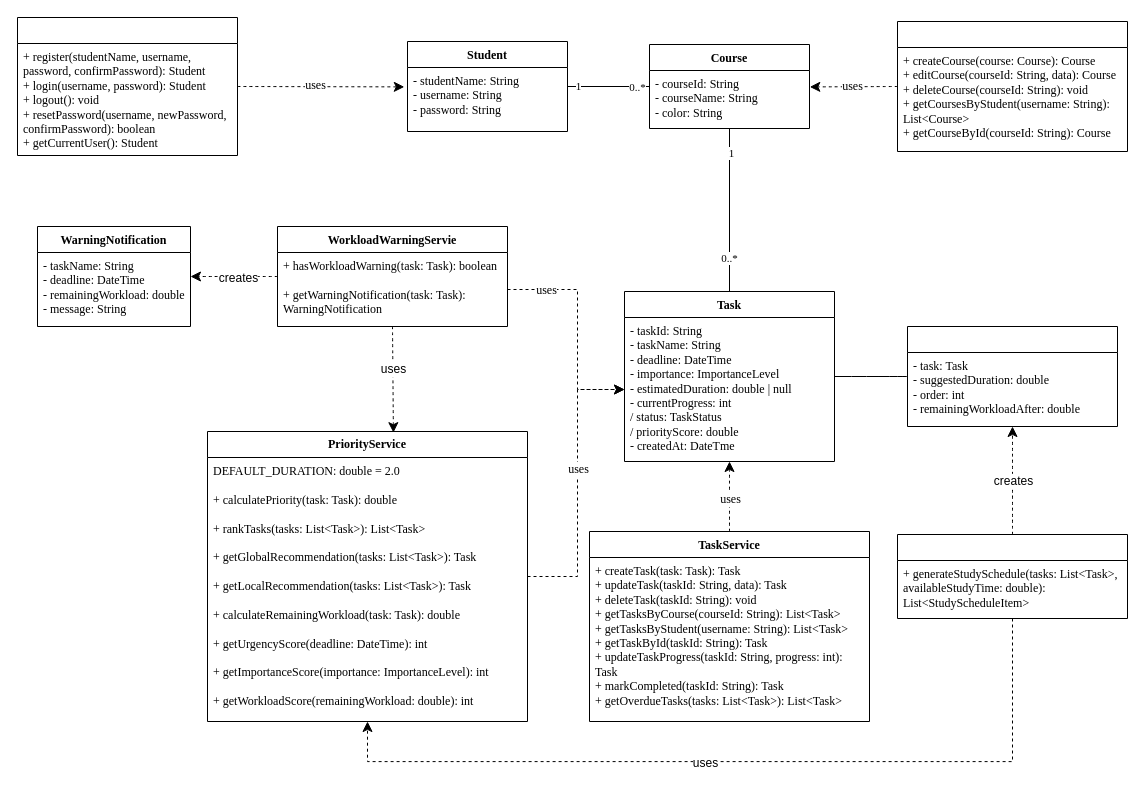
Some shapes in this 1145 by 790 pixel diagram are drawn without their labels. The shapes that lost their labels are listed below. From the top down, each one's box as (x1, y1, x2, y2) in pixels, then its label:
(16, 16, 238, 156): AuthService
(896, 20, 1128, 152): CourseService
(906, 326, 1118, 426): StudyScheduleItem
(896, 534, 1128, 618): StudyScheduleService
